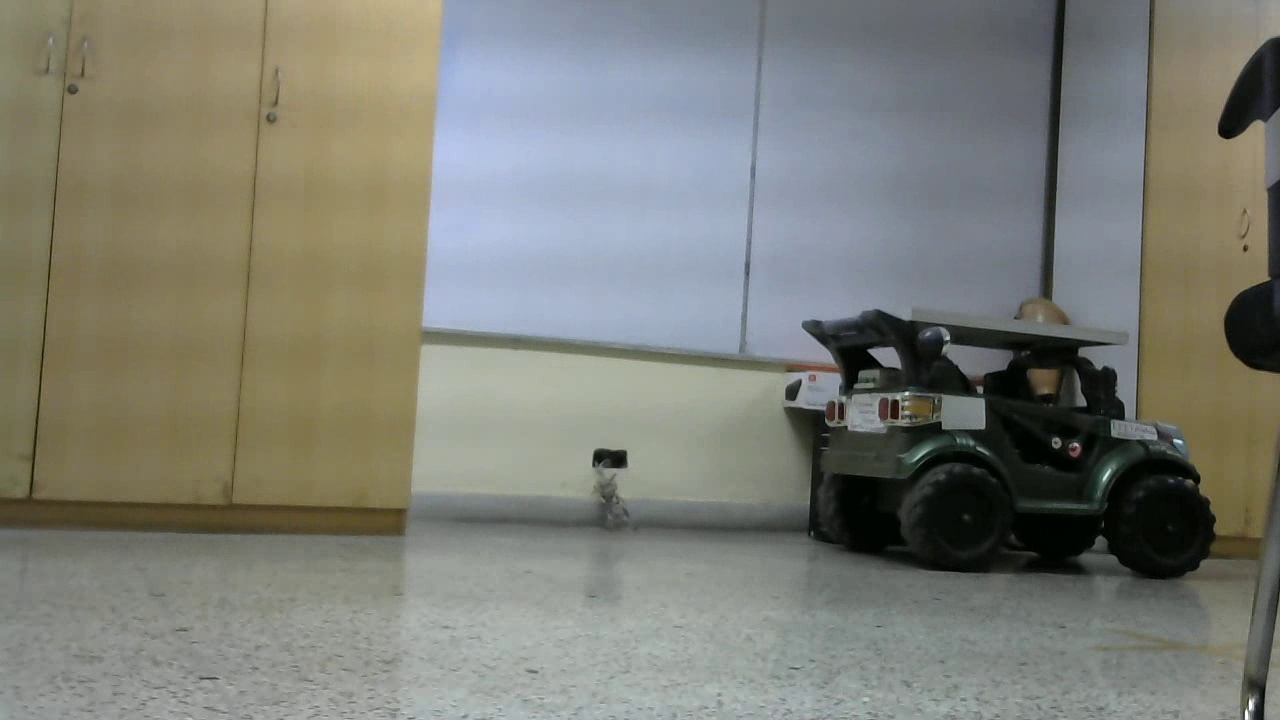chair: (693, 3, 1032, 604)
